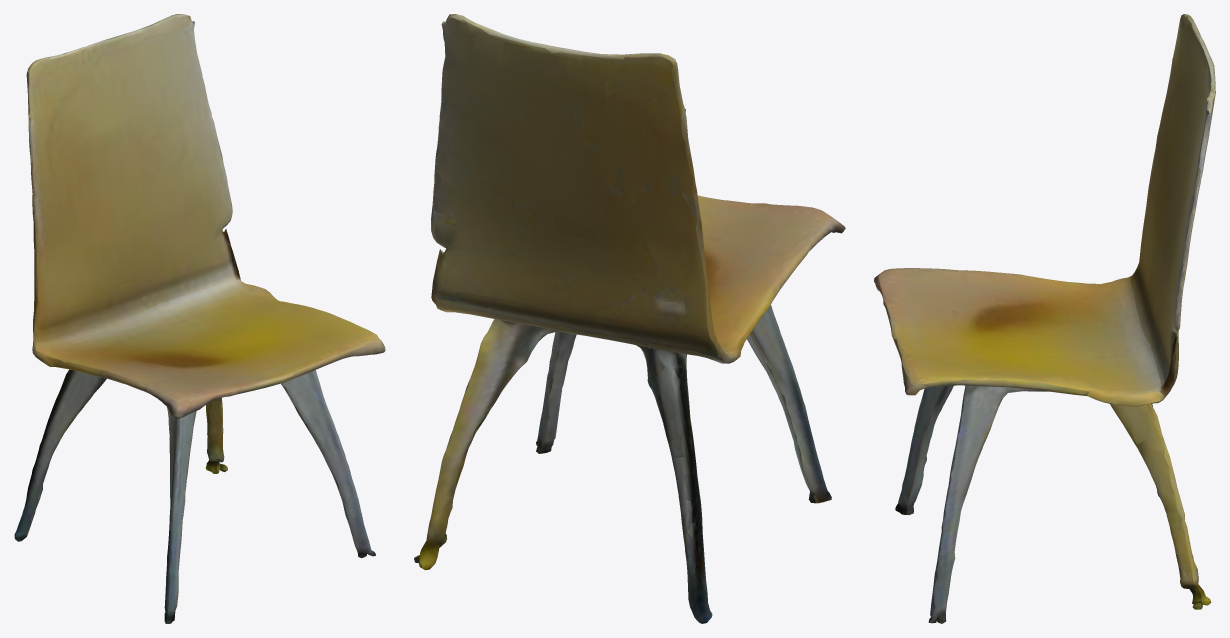
3 renders of one model, left to right at view 1: azimuth 30°, elevation 25°; view 2: azimuth 150°, elevation 25°; view 3: azimuth 270°, elevation 25°, orthographic. The views are drawn at different scales.
Visible parts, largest first — view 1: world; view 2: world; view 3: world.
Boxes of the visible parts, x1=… form: world: x1=14, y1=14, x2=385, y2=623; world: x1=414, y1=14, x2=845, y2=623; world: x1=874, y1=14, x2=1215, y2=623.
Bounding box in the file's own units: 0.2362 × 0.4191 × 0.2584.
Materials: 1 (1 with a texture image).
